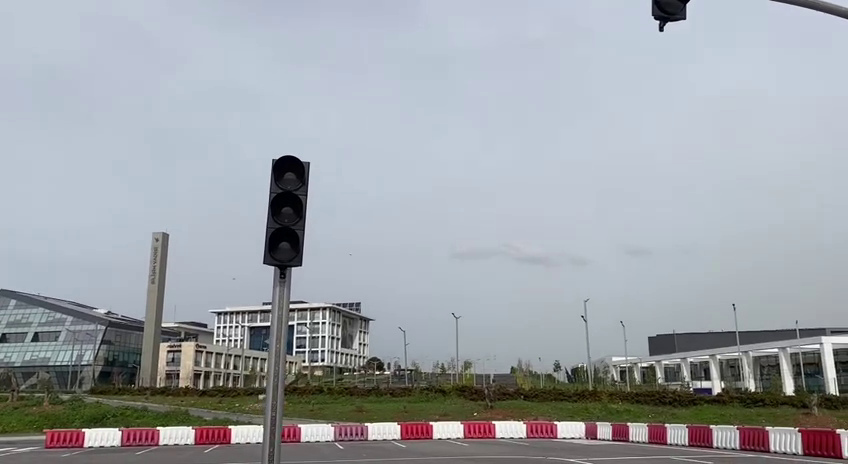trafficLight: (258, 151, 314, 273)
